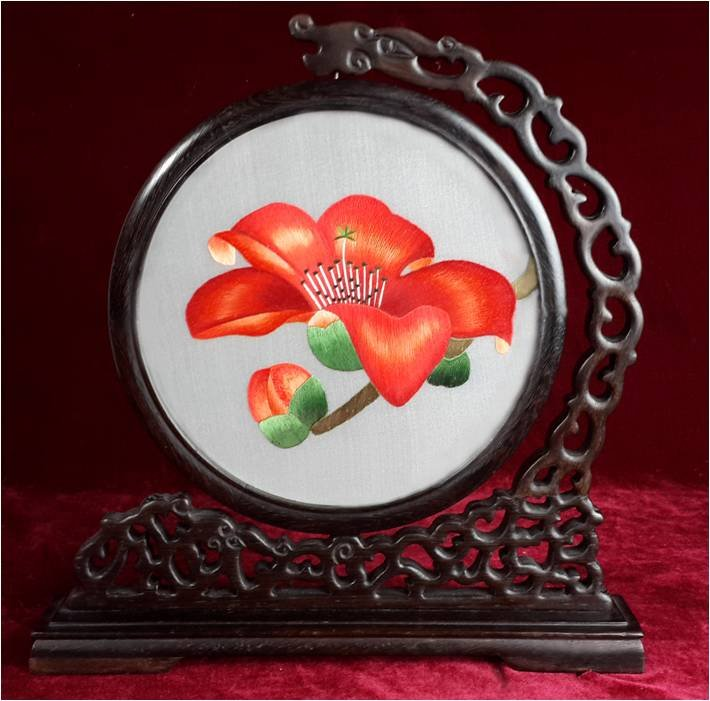kapok: (187, 194, 517, 409), (247, 362, 329, 447)
